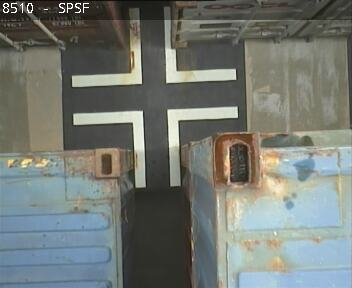groundmarker_1: (72, 105, 239, 188), (70, 6, 237, 88)
